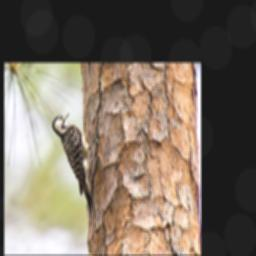Woodpecker: (52, 113, 99, 219)
